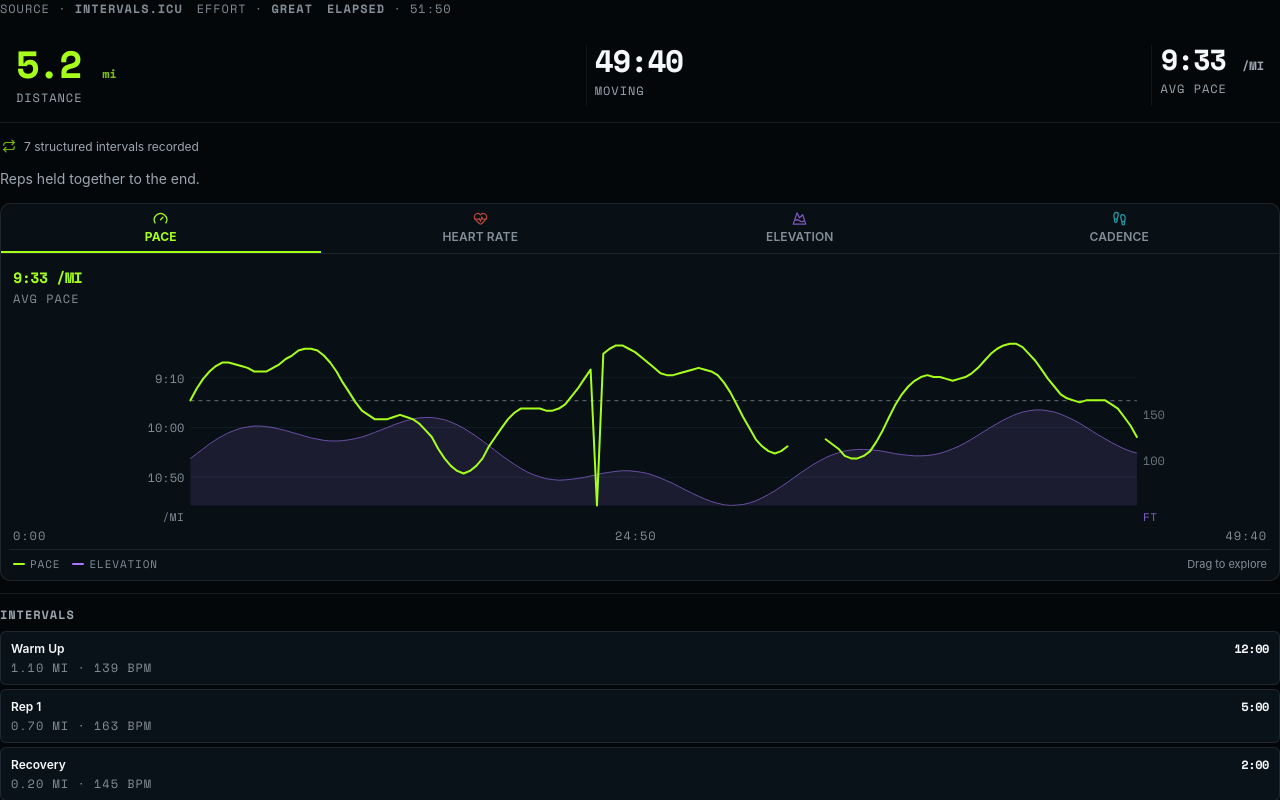
Test: QA rich-profile run › states synthetic cadence verbatim, exactly as the verified convention requires
Click the button "Cadence". click: (1119, 228)
box: [960,204,1279,253]
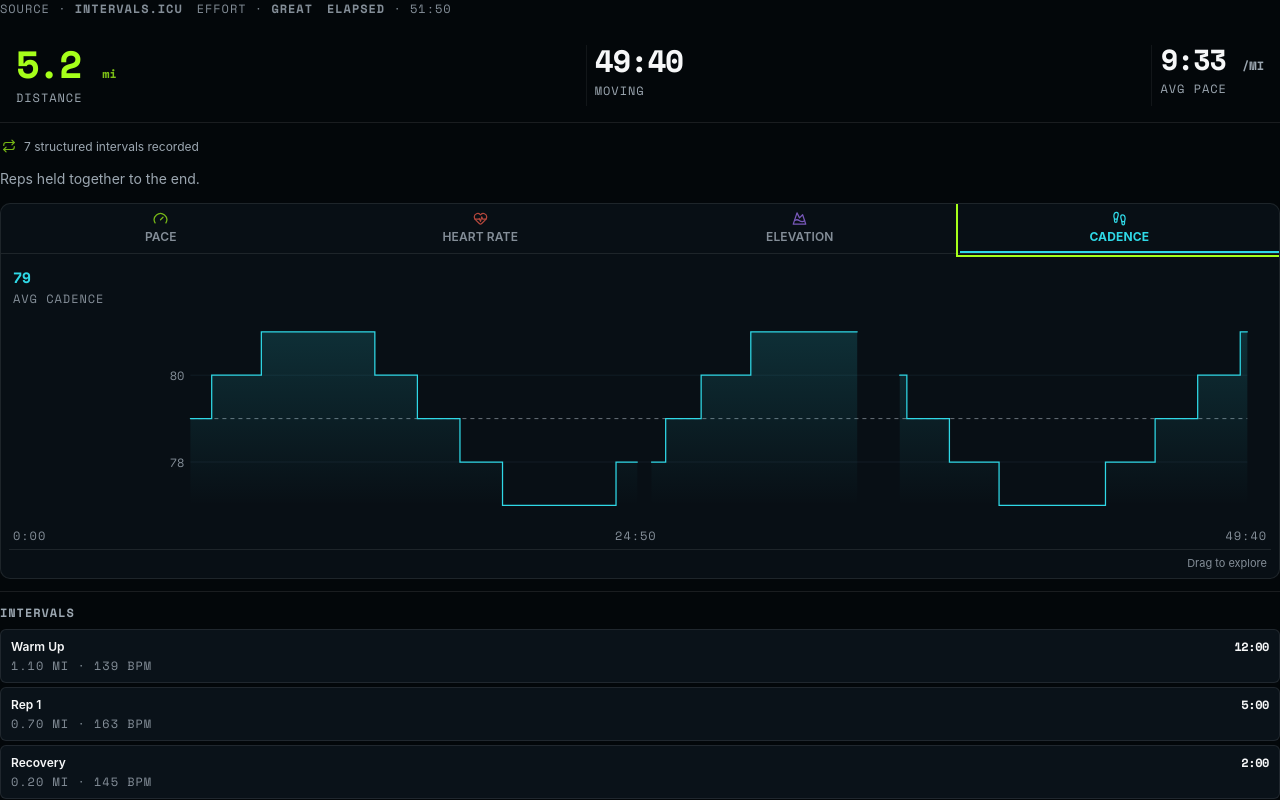
expect the element with class "run-analysis__facts" does not show "158": met, box [13,266,104,307]
expect the element with class "run-analysis__facts" shows "79": met, box [13,266,30,288]
